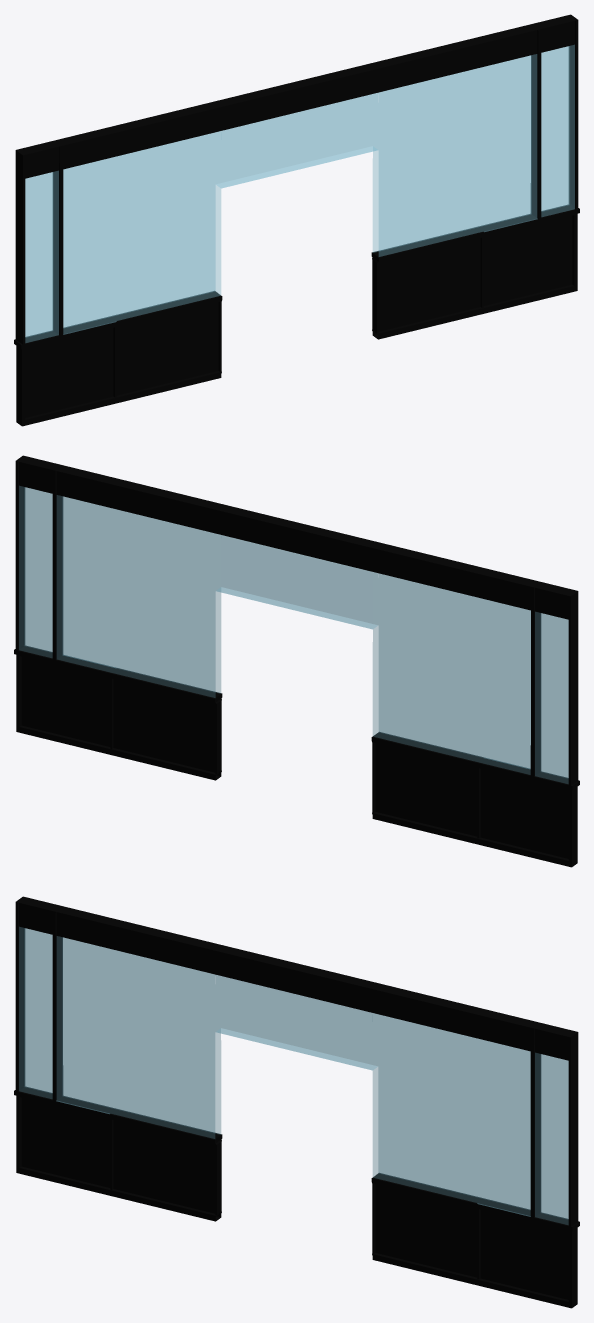
File: PetitMurPorte.glb
3 renders of one model, top to bottom at view 1: azimuth 30°, elevation 25°; view 2: azimuth 150°, elevation 25°; view 3: azimuth 330°, elevation 25°, orthographic.
Visible parts, largest first — view 1: Cube.001; view 2: Cube.001; view 3: Cube.001.
Boxes of the visible parts, left/top/right/bottom form: Cube.001: left=14, top=14, right=579, bottom=426; Cube.001: left=14, top=455, right=579, bottom=867; Cube.001: left=14, top=896, right=579, bottom=1308.
Size of the model in its own units: 7.1 by 3.3 by 0.1645.
